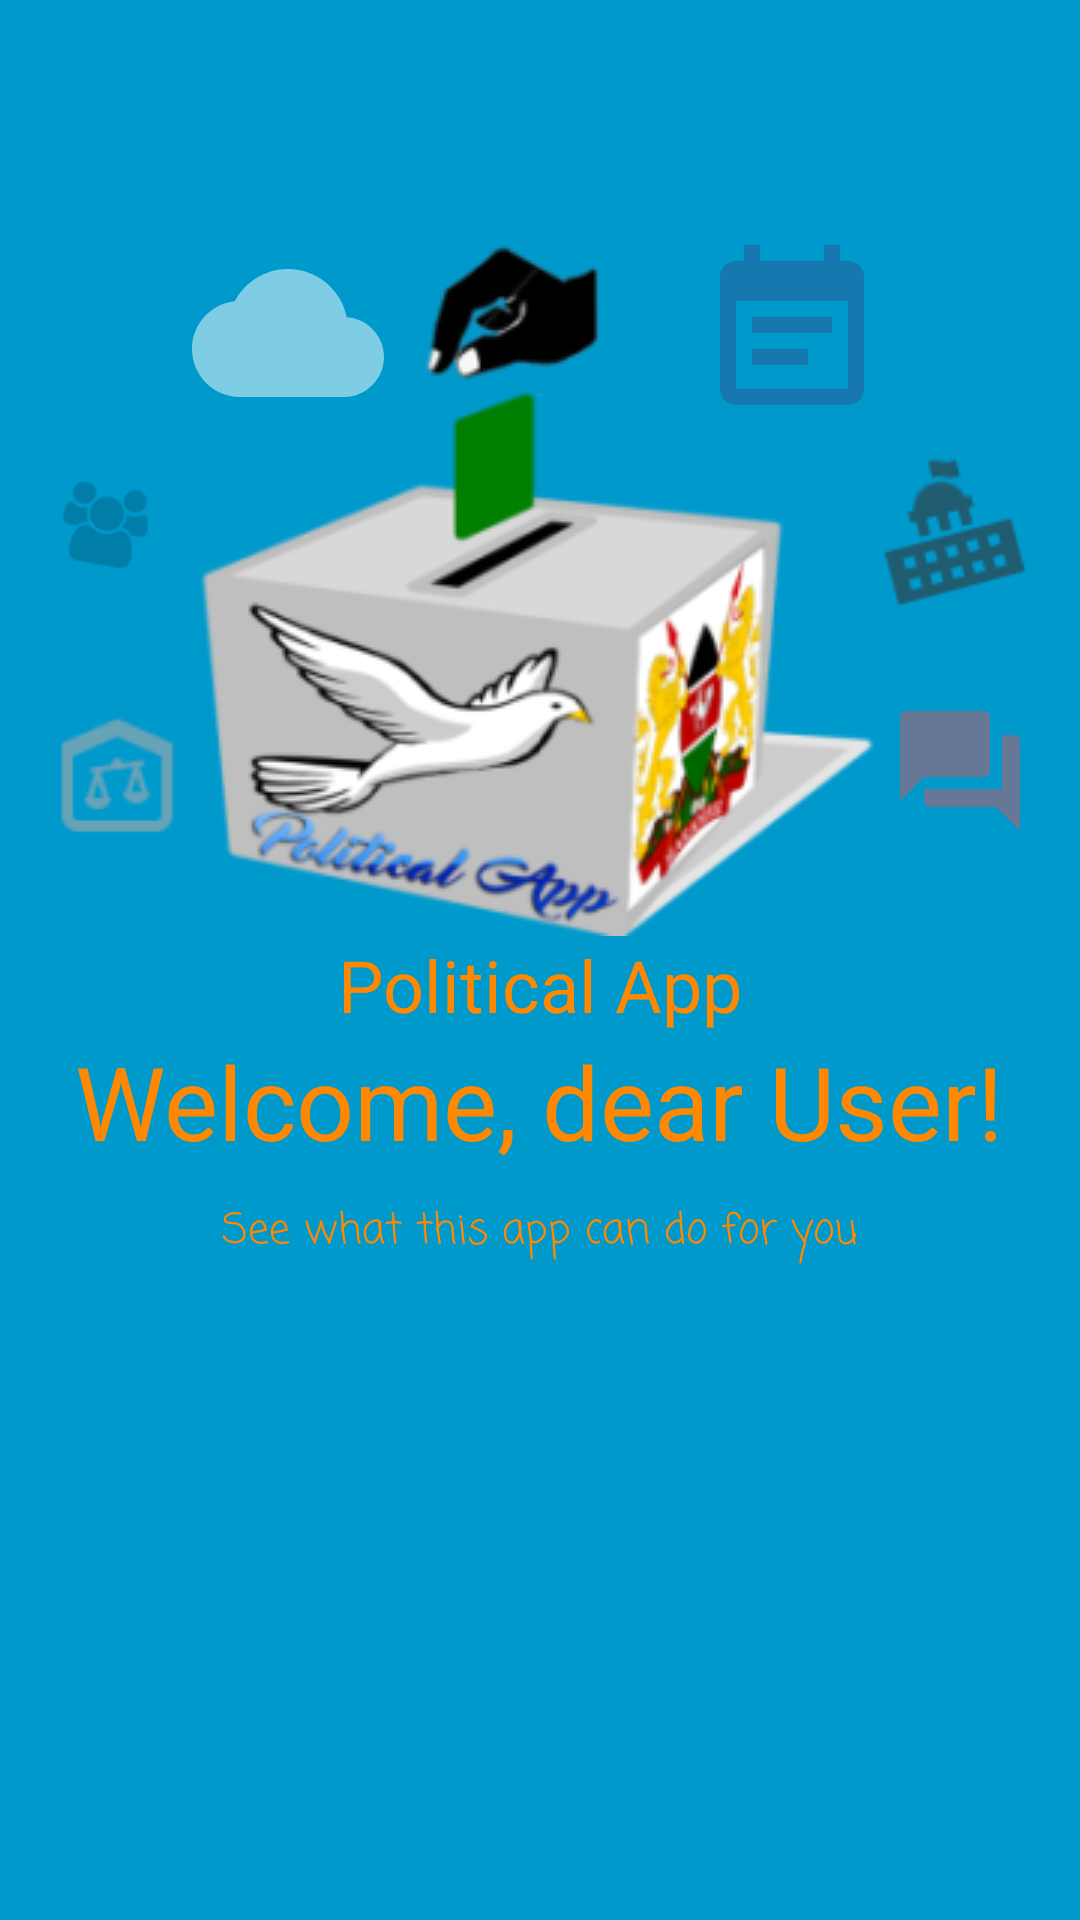

Screen size 1080 × 1920. Icon name, then its box in pixels as (x1, y1, x2, y2):
courthouse: (61, 718, 174, 832)
group: (64, 483, 147, 567)
parliament building: (884, 459, 1025, 605)
